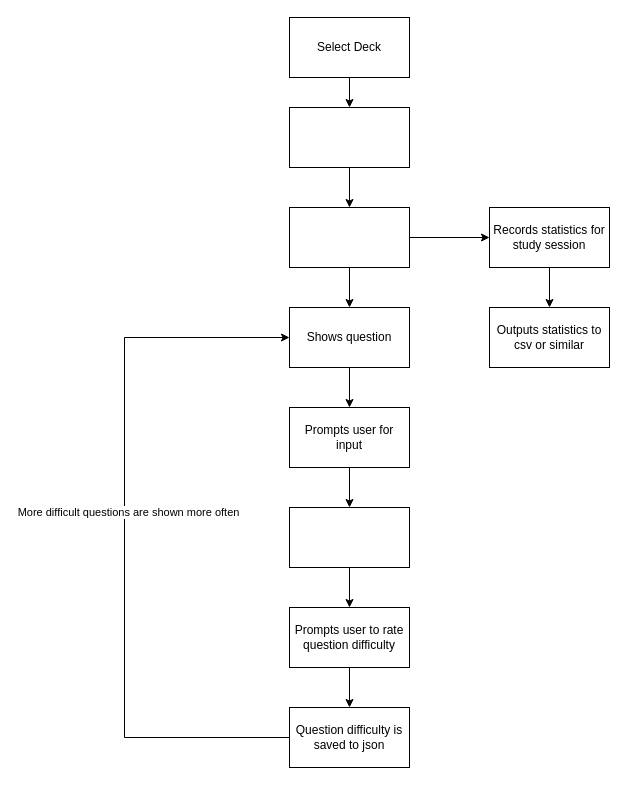
Image size: 627x785. Some labels were removed from this diagram. Each missing label, with the centre of its shape:
"Begin Study" belongs at (x=349, y=137).
"Initialises Session tracker class" belongs at (x=349, y=237).
"Shows solution and user answer" belongs at (x=349, y=537).
